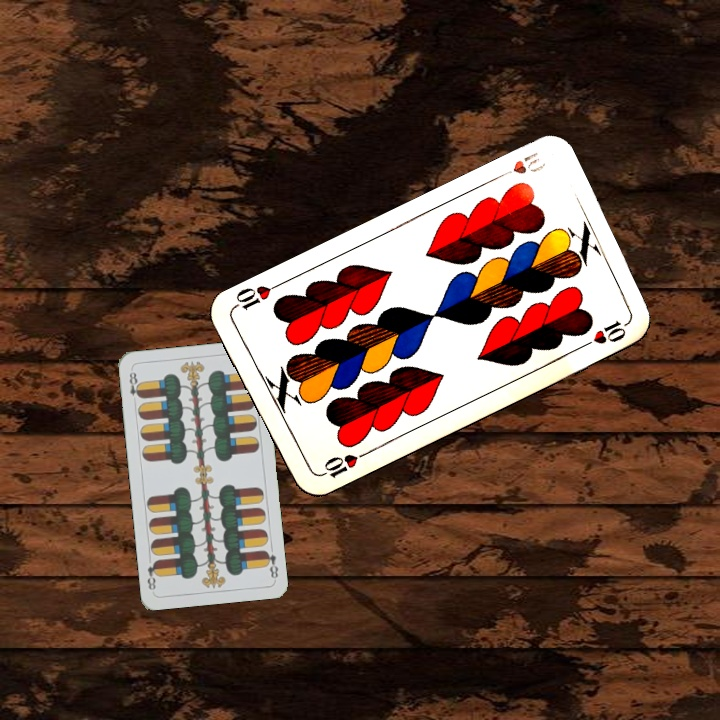E8: (260, 546, 281, 581), (125, 366, 144, 401)
H10: (492, 148, 549, 182), (313, 450, 361, 481)
